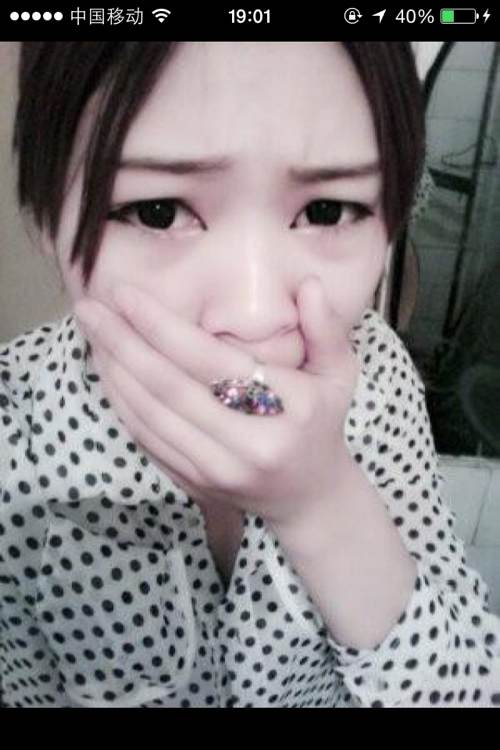face: (63, 12, 387, 467)
